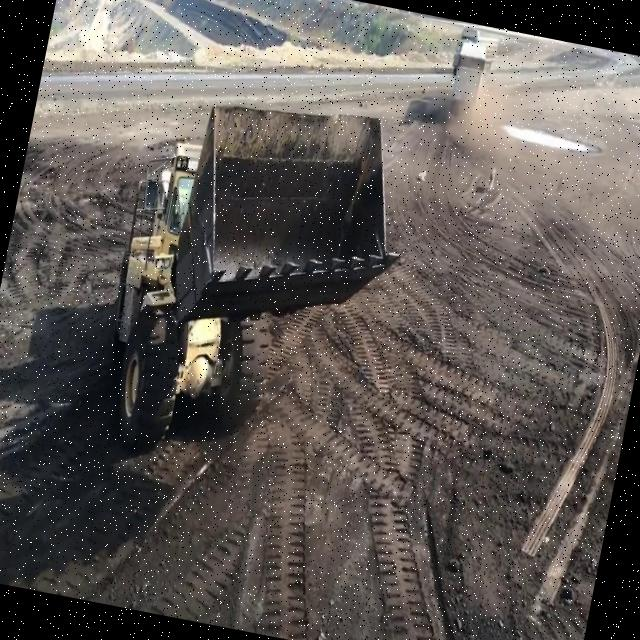Dump Truck: (445, 38, 490, 124)
Loader: (87, 70, 418, 487)
